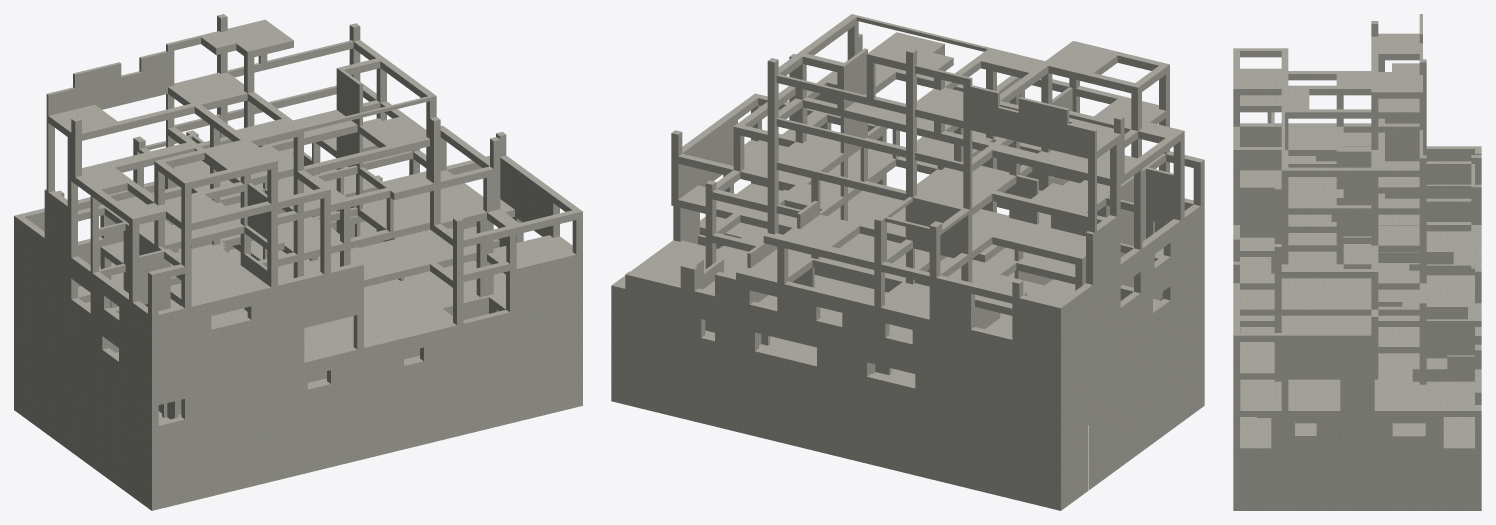
File: Building2.obj
3 renders of one model, left to right at view 1: azimuth 30°, elevation 25°; view 2: azimuth 150°, elevation 25°; view 3: azimuth 270°, elevation 25°, orthographic. The views are drawn at different scales.
Visible parts, largest first — view 1: Floor1_0, Floor345_0, Floor345_1, Floor2_0, Floor6_0, Floor6_2, Floor2_2, Base3_0, Base3_1, Floor1_3, Floor345_3, Base3_3 (+2 smaller); view 2: Floor1_0, Floor345_0, Floor2_0, Floor345_1, Floor6_0, Base3_1, Floor6_2, Base3_0, Floor2_2, Floor345_3, Base3_3, Floor345_4 (+3 smaller); view 3: Floor345_0, Floor1_0, Floor345_1, Floor2_2, Floor2_0, Floor6_0, Floor6_2, Base3_1, Base3_0, Floor1_1, Base3_3, Floor345_3.
Boxes of the visible parts, x1=… form: Floor1_0: x1=14, y1=301, x2=582, y2=510; Floor345_0: x1=14, y1=87, x2=582, y2=357; Floor345_1: x1=14, y1=81, x2=582, y2=329; Floor2_0: x1=14, y1=208, x2=582, y2=406; Floor6_0: x1=44, y1=16, x2=440, y2=224; Floor6_2: x1=45, y1=19, x2=439, y2=205; Floor2_2: x1=78, y1=175, x2=509, y2=362; Base3_0: x1=14, y1=206, x2=582, y2=364; Base3_1: x1=72, y1=198, x2=572, y2=325; Floor1_3: x1=167, y1=352, x2=460, y2=419; Floor345_3: x1=75, y1=133, x2=429, y2=264; Base3_3: x1=487, y1=235, x2=575, y2=268; Floor1_0: x1=611, y1=236, x2=1204, y2=510; Floor345_0: x1=671, y1=56, x2=1204, y2=351; Floor2_0: x1=611, y1=181, x2=1204, y2=402; Floor345_1: x1=672, y1=54, x2=1203, y2=308; Floor6_0: x1=767, y1=17, x2=1169, y2=248; Base3_1: x1=678, y1=140, x2=1163, y2=339; Floor6_2: x1=777, y1=15, x2=1169, y2=234; Base3_0: x1=671, y1=159, x2=1204, y2=358; Floor2_2: x1=611, y1=183, x2=1160, y2=344; Floor345_3: x1=783, y1=63, x2=1180, y2=257; Base3_3: x1=740, y1=140, x2=929, y2=311; Floor345_4: x1=767, y1=159, x2=1106, y2=265; Floor345_0: x1=1233, y1=74, x2=1481, y2=373; Floor1_0: x1=1233, y1=233, x2=1481, y2=510; Floor345_1: x1=1233, y1=74, x2=1481, y2=335; Floor2_2: x1=1240, y1=231, x2=1481, y2=410; Floor2_0: x1=1233, y1=193, x2=1481, y2=416; Floor6_0: x1=1233, y1=24, x2=1426, y2=208; Floor6_2: x1=1233, y1=14, x2=1422, y2=189; Base3_1: x1=1240, y1=214, x2=1481, y2=373; Base3_0: x1=1233, y1=189, x2=1481, y2=410; Floor1_1: x1=1240, y1=417, x2=1474, y2=448; Base3_3: x1=1240, y1=237, x2=1481, y2=370; Floor345_3: x1=1271, y1=71, x2=1474, y2=280.
Size of the model in its own units: 65 by 54 by 36.
3 materials, 3 textured.
